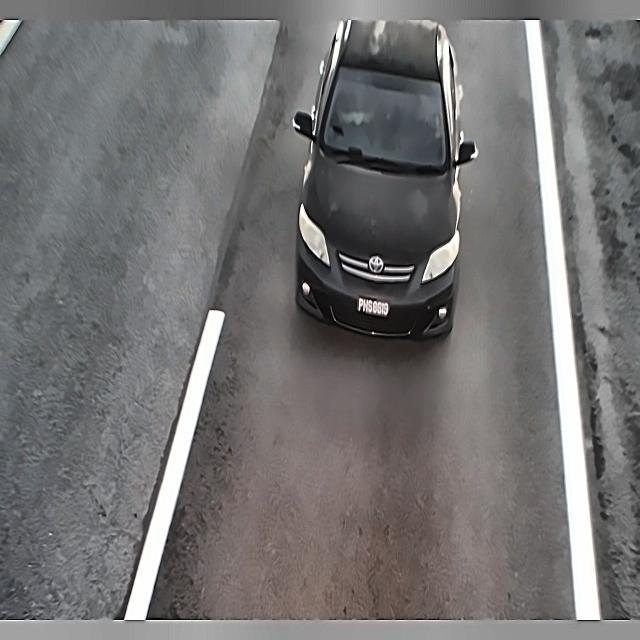car: (349, 281, 394, 331)
